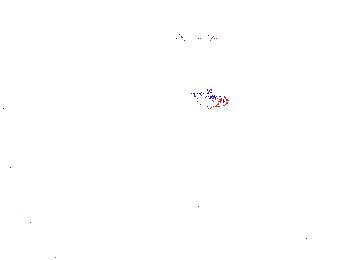X-ray fish: (222, 125, 259, 157)
red belly glassfish: (185, 86, 230, 108), (177, 29, 219, 47)
redtail glassfish: (49, 14, 115, 45)
